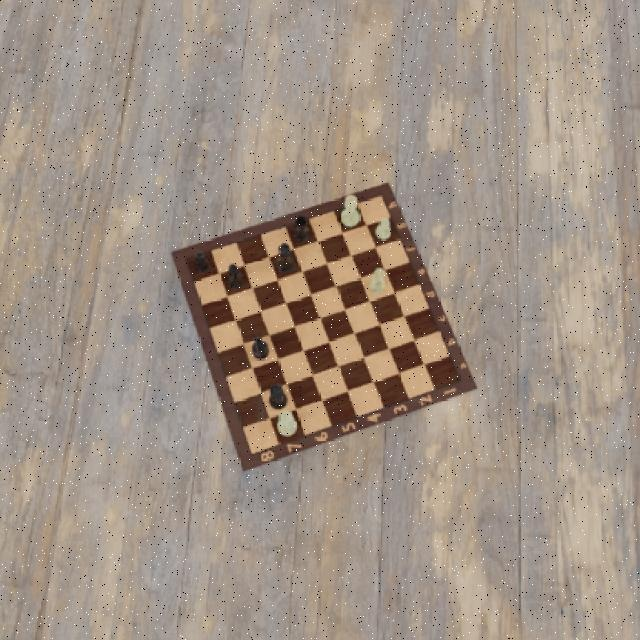black-pawn: (278, 240, 296, 280), (227, 260, 246, 296), (195, 245, 213, 278), (251, 336, 269, 364)
black-rook: (293, 211, 311, 245)
white-bishop: (340, 185, 359, 230)
white-pawn: (370, 265, 386, 297), (375, 213, 391, 243)
white-rook: (278, 407, 298, 441)
